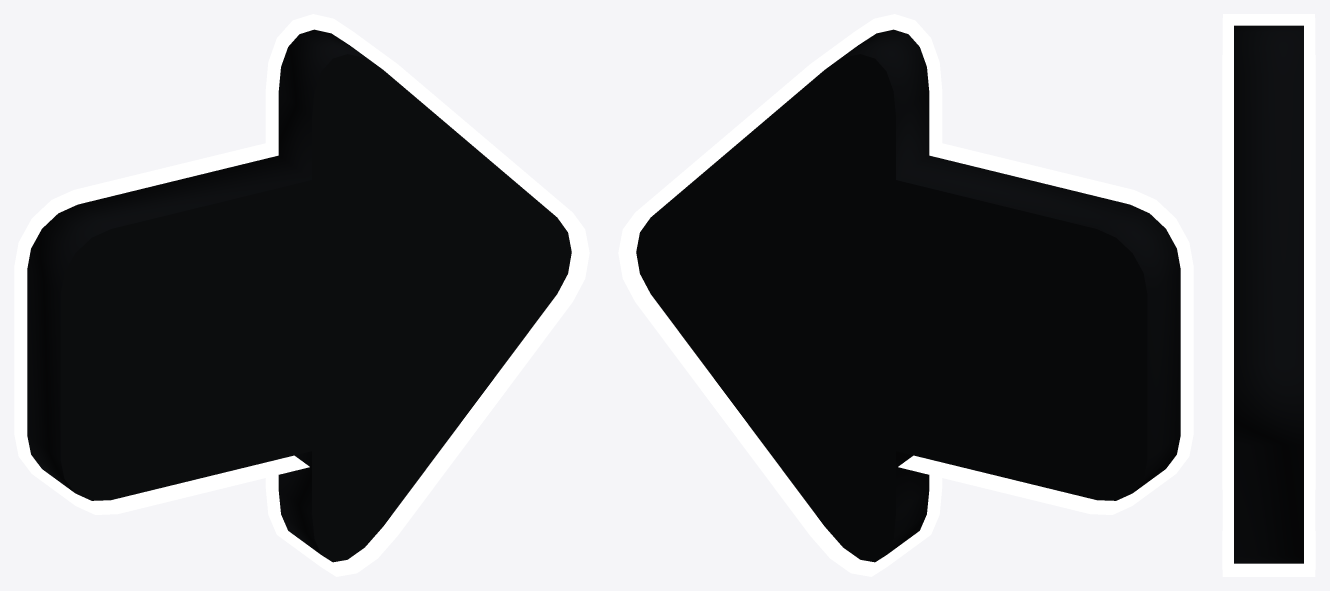
Rendered from arrowButton.glb.
3 views of the same model, side by side, from view 1: azimuth 30°, elevation 25°; view 2: azimuth 150°, elevation 25°; view 3: azimuth 270°, elevation 25° (orthographic). The views are drawn at different scales.
Visible parts, largest first — view 1: ArrowButton, ArrowButtonOutline; view 2: ArrowButton, ArrowButtonOutline; view 3: ArrowButton, ArrowButtonOutline.
Boxes of the visible parts, box(x1,y1,x2,y2) form: ArrowButton: box(27, 29, 571, 562); ArrowButtonOutline: box(14, 14, 589, 576); ArrowButton: box(636, 29, 1180, 562); ArrowButtonOutline: box(618, 14, 1193, 576); ArrowButton: box(1234, 25, 1303, 563); ArrowButtonOutline: box(1222, 14, 1315, 576).
Size of what is drawn, in the model's own units: 1.66 by 1.57 by 0.2403.
Materials: 2 (2 with a texture image).
